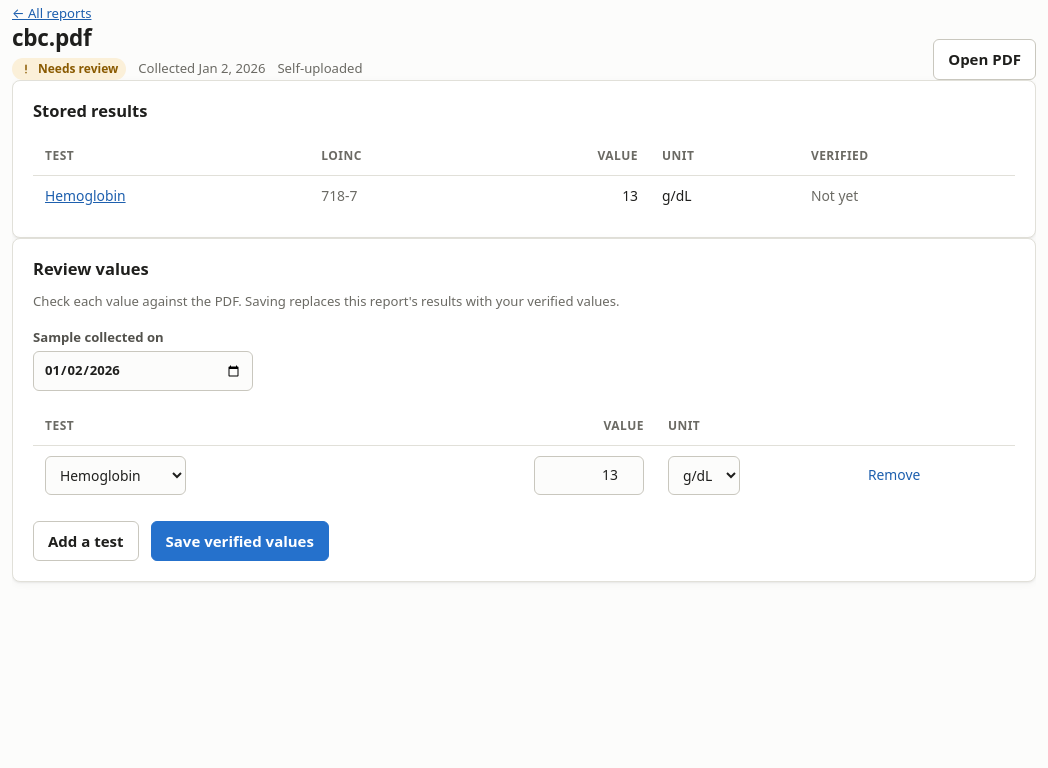
review › keeps the success message after the report refetches as extracted
Click the button "Save verified values" at (240, 541), box x1=150 y1=521 x2=329 y2=561
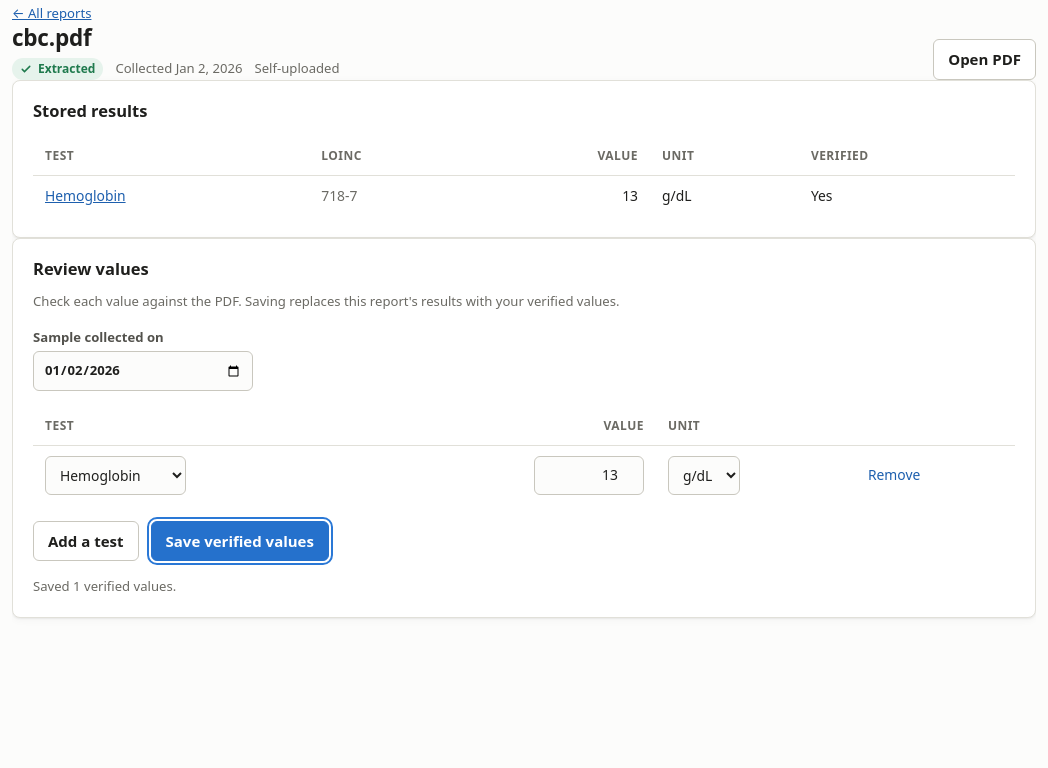
Check: the text "Extracted" is shown, box x1=12 y1=58 x2=103 y2=80
Check: the message reads "Saved 1 verified values.", box x1=33 y1=577 x2=176 y2=595
